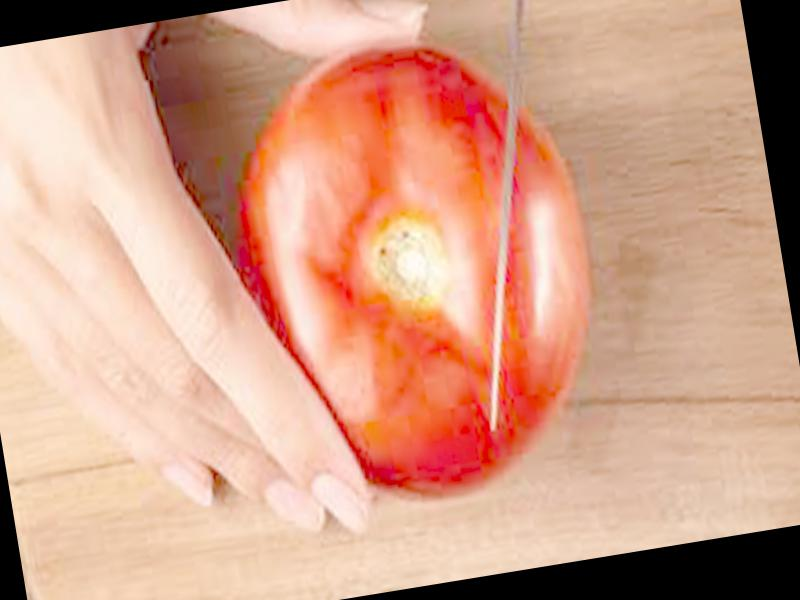Tomato: (205, 23, 614, 522)
